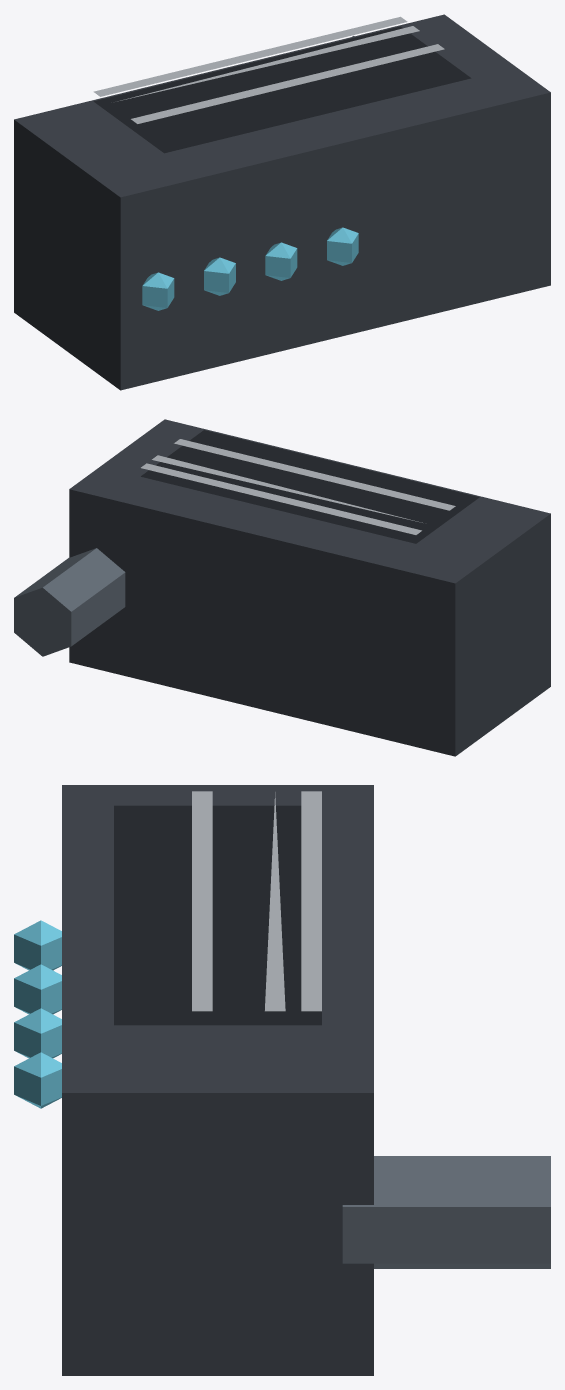
The model's file is droid-vocoder-superior.lod.glb.
3 renders of one model, top to bottom at view 1: azimuth 30°, elevation 25°; view 2: azimuth 150°, elevation 25°; view 3: azimuth 270°, elevation 25°, orthographic. The views are drawn at different scales.
Parts seen in each view (by area): view 1: m; view 2: m; view 3: m.
Boxes of the visible parts, left/top/right/bottom form: m: left=14, top=14, right=550, bottom=390; m: left=14, top=419, right=550, bottom=756; m: left=14, top=785, right=550, bottom=1375.
Bounding box in the file's own units: 0.1 × 0.0484 × 0.0735.
